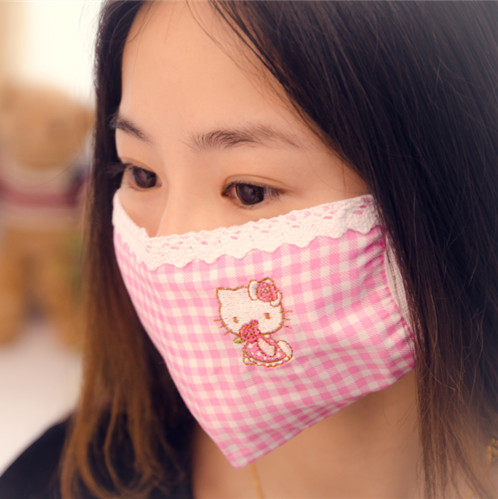face_mask: (109, 12, 413, 459)
